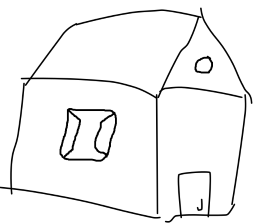big_house: (0, 1, 260, 224)
door: (166, 165, 219, 222)
open_window: (52, 97, 127, 172)
roof: (13, 5, 256, 105)
wall: (146, 78, 248, 224)
